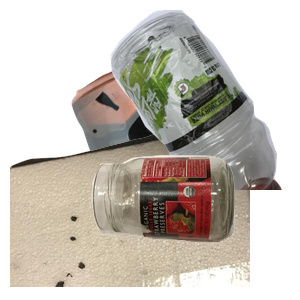glass: (89, 153, 300, 300)
metal: (69, 58, 300, 238)
plastic: (73, 10, 300, 190)
trash: (10, 120, 250, 300)
